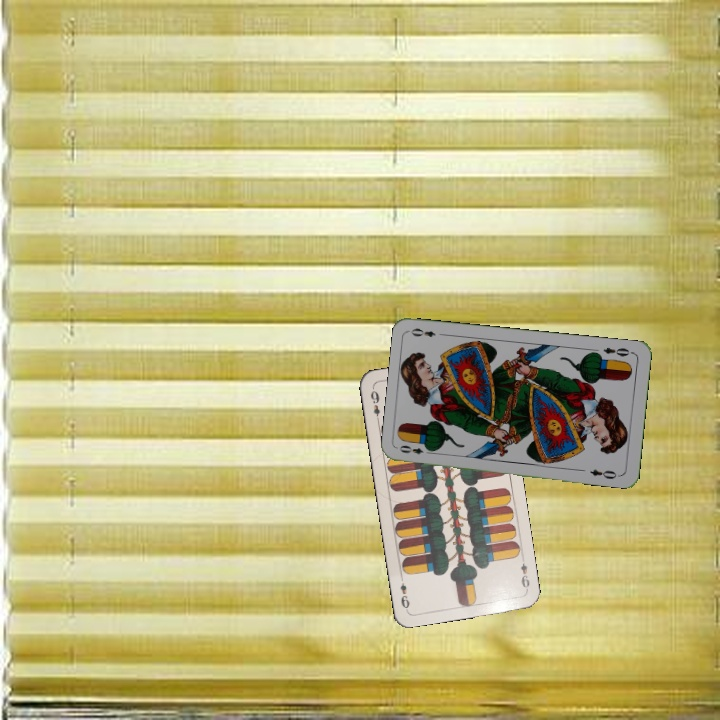E9: (366, 387, 383, 425), (517, 553, 532, 593)
EO: (395, 441, 436, 457), (599, 343, 635, 359)
